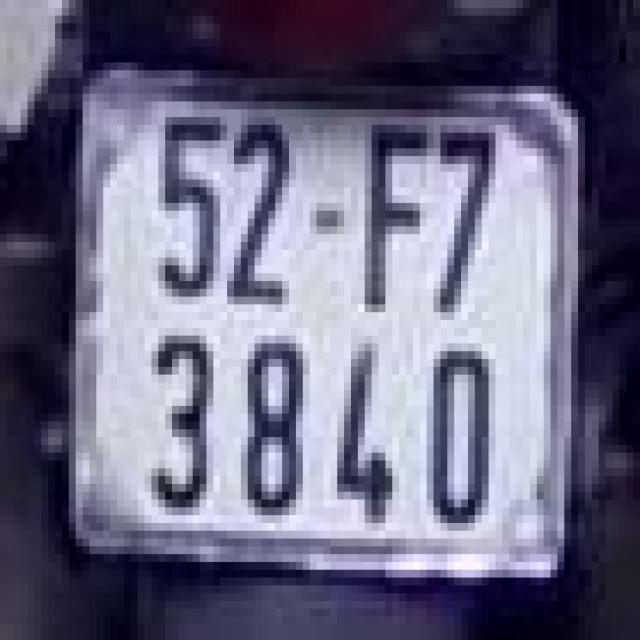0: (423, 340, 513, 542)
2: (227, 105, 296, 316)
3: (120, 324, 224, 519)
4: (330, 336, 420, 538)
5: (148, 102, 224, 304)
7: (430, 113, 513, 316)
8: (231, 328, 320, 523)
F: (351, 117, 434, 328)
